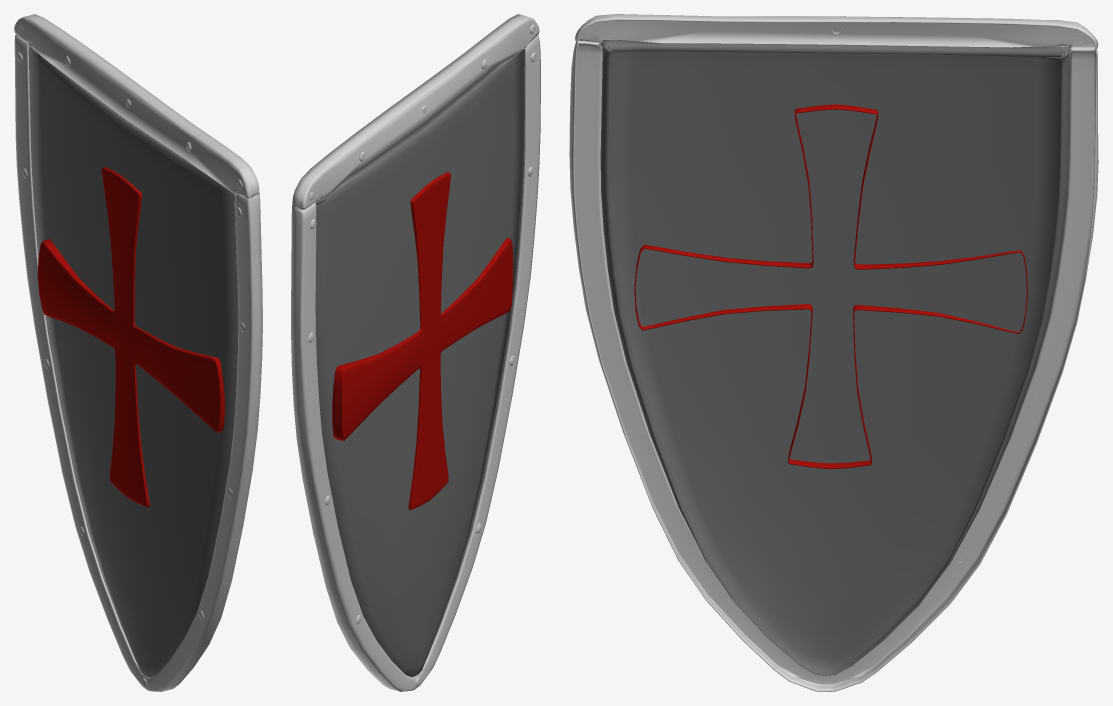
The model's file is shield.fbx.
The picture shows the model from 3 angles, left to right: view 1: azimuth 30°, elevation 25°; view 2: azimuth 150°, elevation 25°; view 3: azimuth 270°, elevation 25°; orthographic projection. The views are drawn at different scales.
Parts seen in each view (by area): view 1: cross_Plane.002; view 2: cross_Plane.002; view 3: cross_Plane.002.
Part boxes in pixels (x1,y1,x2,y2): cross_Plane.002: [14, 14, 262, 691]; cross_Plane.002: [291, 14, 540, 691]; cross_Plane.002: [569, 14, 1098, 691].
Bounding box in the file's own units: 38.81 × 679 × 488.
